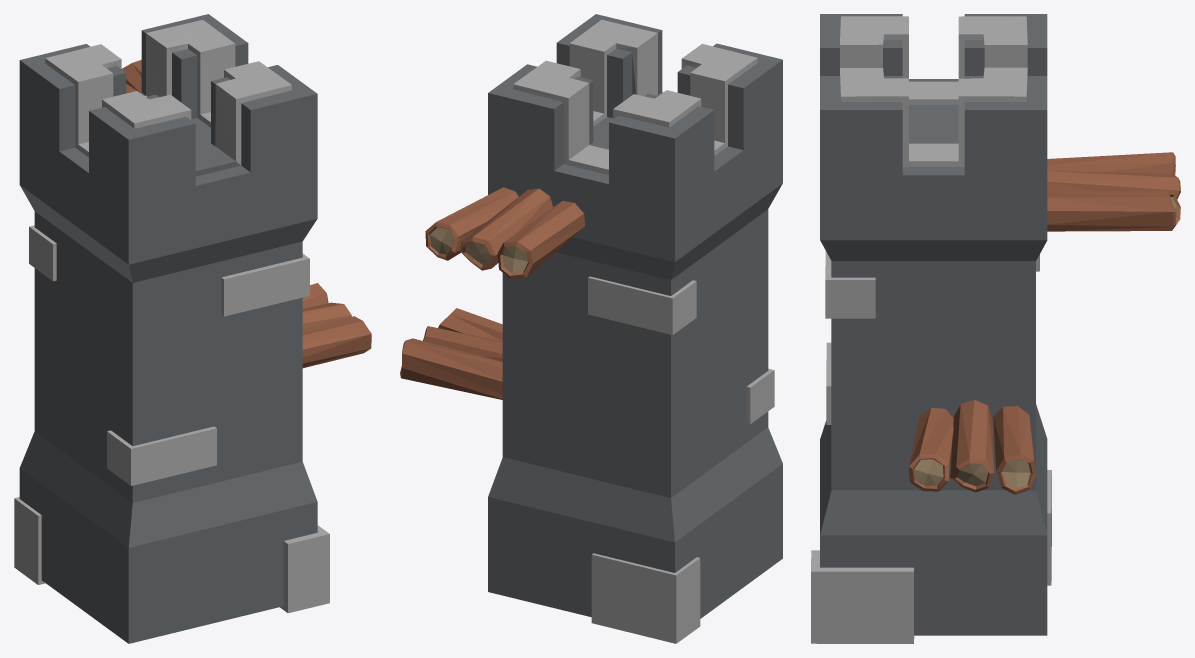
The model's file is LightStoneBuildingLargeTower1.fbx.
3 views of the same model, side by side, from view 1: azimuth 30°, elevation 25°; view 2: azimuth 150°, elevation 25°; view 3: azimuth 270°, elevation 25° (orthographic). The views are drawn at different scales.
Parts seen in each view (by area): view 1: LightStoneBuildingLargeTower1; view 2: LightStoneBuildingLargeTower1; view 3: LightStoneBuildingLargeTower1.
Boxes of the visible parts, box(x1,y1,x2,y2) form: LightStoneBuildingLargeTower1: box(14, 14, 371, 643); LightStoneBuildingLargeTower1: box(400, 14, 782, 643); LightStoneBuildingLargeTower1: box(811, 14, 1180, 643).
Size of the model in its own units: 410 by 681 by 426.
